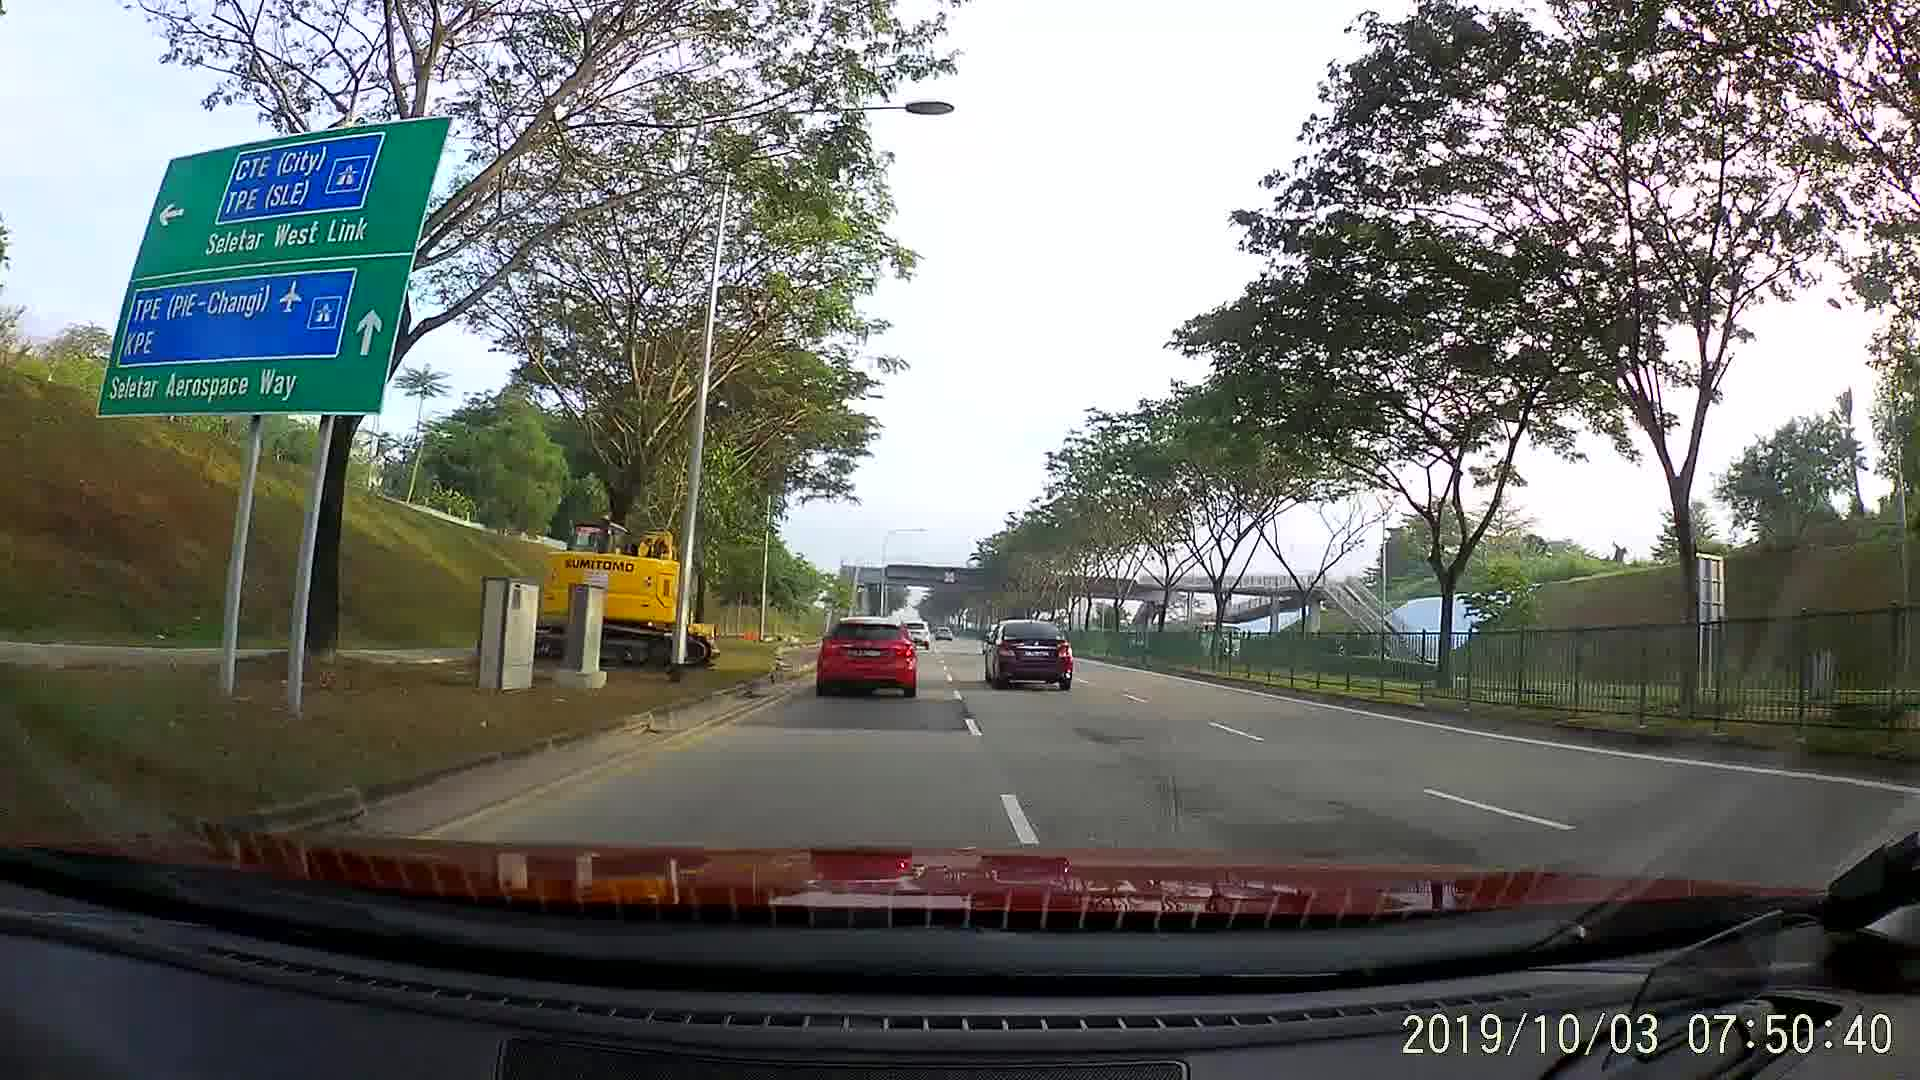car: (810, 608, 923, 705), (981, 618, 1077, 692), (899, 617, 934, 649), (932, 622, 960, 644)
